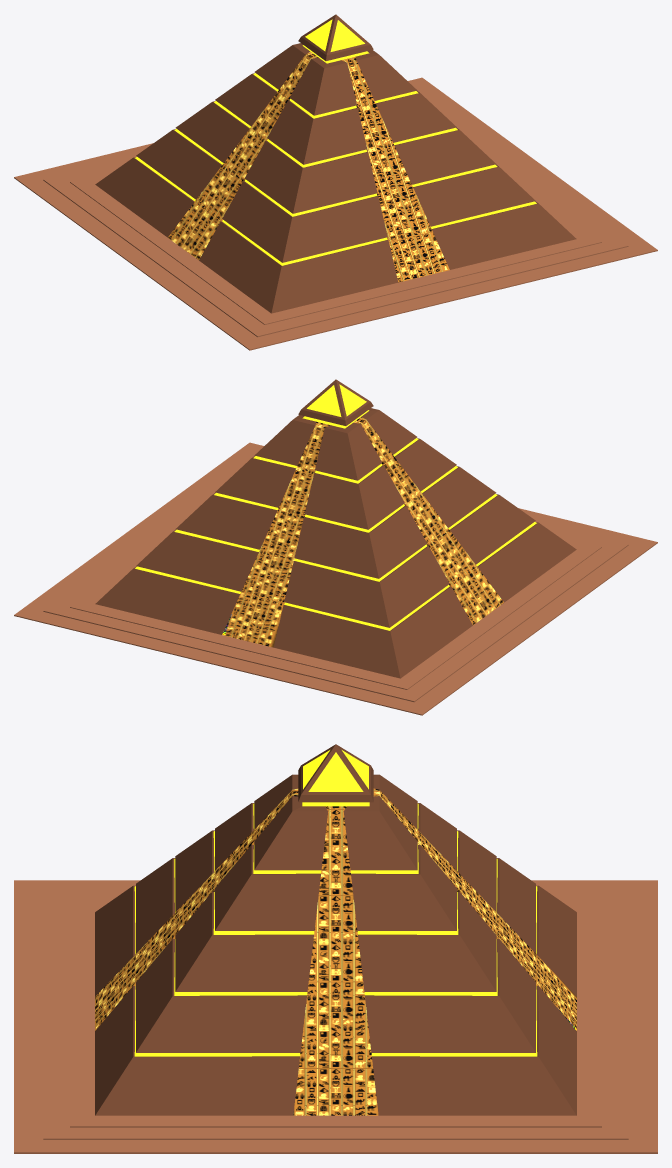
The model's file is Modern pyramid illustration 5.fbx.
3 renders of one model, top to bottom at view 1: azimuth 30°, elevation 25°; view 2: azimuth 150°, elevation 25°; view 3: azimuth 270°, elevation 25°, orthographic. The views are drawn at different scales.
Parts seen in each view (by area): view 1: Pyramid 1, Pyramid 1 platform; view 2: Pyramid 1, Pyramid 1 platform; view 3: Pyramid 1, Pyramid 1 platform.
Part boxes in pixels (x1,y1,x2,y2): Pyramid 1: (95,14,576,313); Pyramid 1 platform: (14,77,657,350); Pyramid 1: (95,379,576,678); Pyramid 1 platform: (14,442,657,715); Pyramid 1: (95,744,576,1115); Pyramid 1 platform: (14,880,657,1153).
Size of the model in its own units: 217 by 102 by 217.
Materials: 1 (1 with a texture image).
